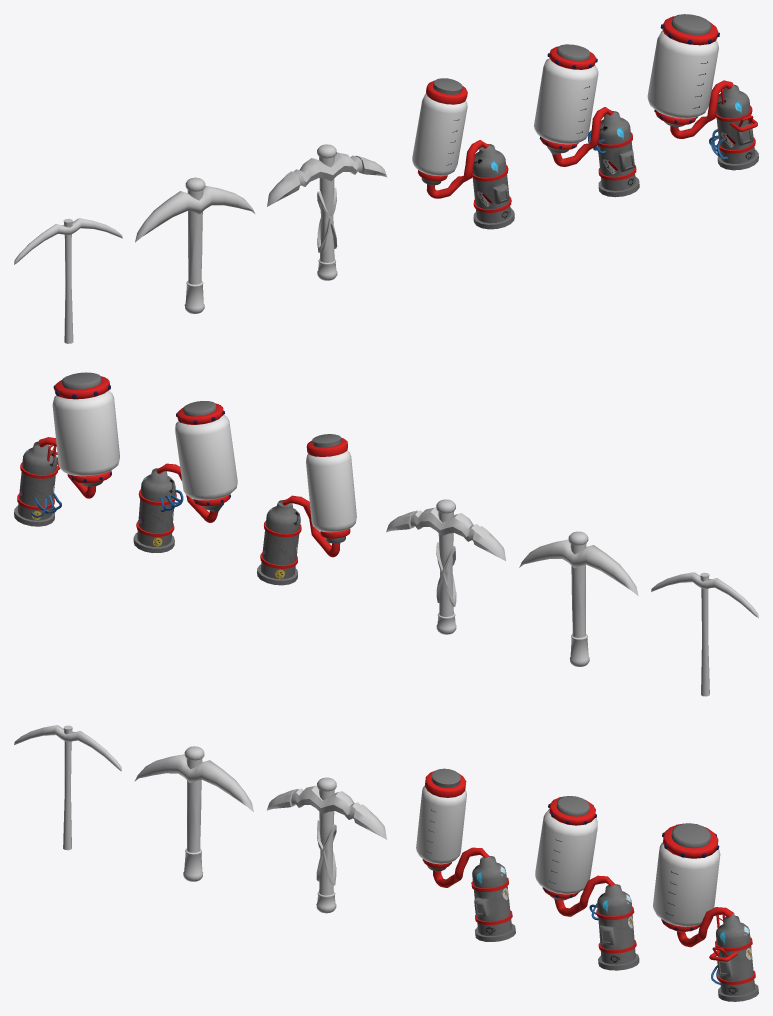
File: ArmasPose.fbx
The picture shows the model from 3 angles, top to bottom: view 1: azimuth 30°, elevation 25°; view 2: azimuth 150°, elevation 25°; view 3: azimuth 330°, elevation 25°; orthographic projection.
Visible parts, largest first — view 1: TanqueEvolucao2, TanqueEvolucao1, Tanque, PicaretaEvolucao2, PicaretaEvolucao1, Picareta; view 2: TanqueEvolucao2, TanqueEvolucao1, Tanque, PicaretaEvolucao2, PicaretaEvolucao1, Picareta; view 3: TanqueEvolucao2, TanqueEvolucao1, Tanque, PicaretaEvolucao2, PicaretaEvolucao1, Picareta.
Part boxes in pixels (x1=…): TanqueEvolucao2: x1=647, y1=14, x2=758, y2=170; TanqueEvolucao1: x1=534, y1=44, x2=639, y2=197; Tanque: x1=412, y1=78, x2=514, y2=229; PicaretaEvolucao2: x1=267, y1=144, x2=387, y2=280; PicaretaEvolucao1: x1=135, y1=177, x2=255, y2=313; Picareta: x1=14, y1=218, x2=122, y2=343; TanqueEvolucao2: x1=14, y1=372, x2=119, y2=526; TanqueEvolucao1: x1=133, y1=401, x2=237, y2=552; Tanque: x1=257, y1=434, x2=356, y2=585; PicaretaEvolucao2: x1=386, y1=499, x2=505, y2=634; PicaretaEvolucao1: x1=519, y1=531, x2=638, y2=666; Picareta: x1=651, y1=572, x2=758, y2=696; TanqueEvolucao2: x1=653, y1=823, x2=758, y2=1001; TanqueEvolucao1: x1=535, y1=796, x2=639, y2=970; Tanque: x1=416, y1=768, x2=515, y2=941; PicaretaEvolucao2: x1=267, y1=777, x2=386, y2=913; PicaretaEvolucao1: x1=134, y1=746, x2=253, y2=881; Picareta: x1=14, y1=725, x2=121, y2=850.
Size of the model in its own units: 1231 by 269 by 98.35.
